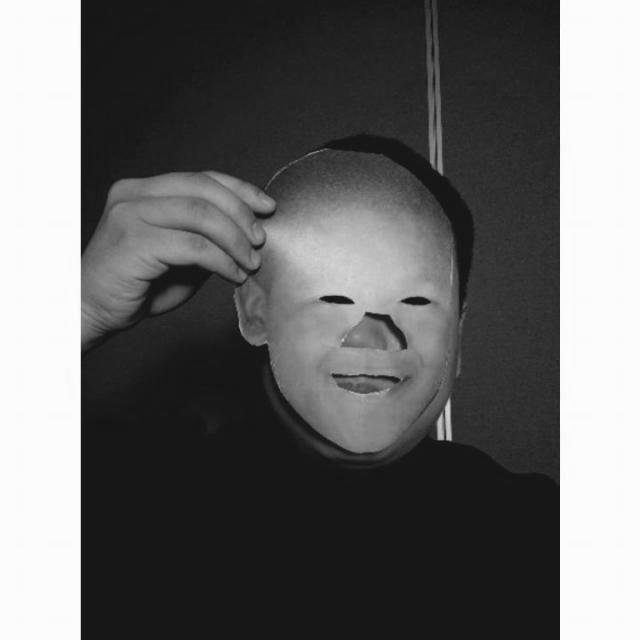fake: (232, 140, 460, 462)
